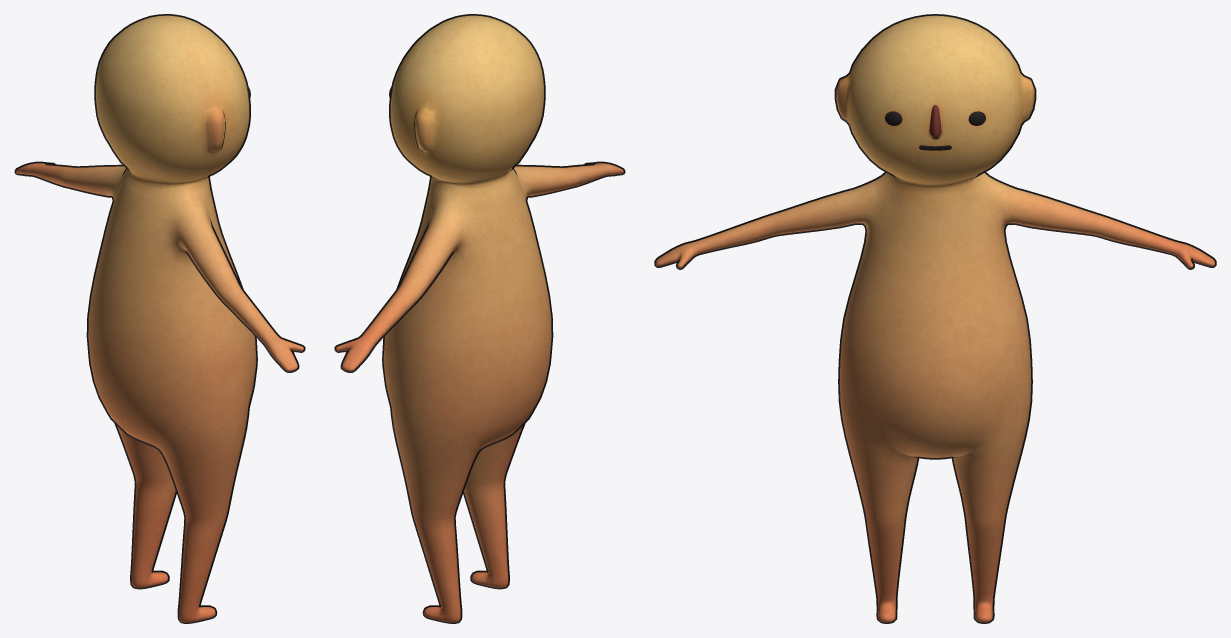
The model's file is Hider.fbx.
3 renders of one model, left to right at view 1: azimuth 30°, elevation 25°; view 2: azimuth 150°, elevation 25°; view 3: azimuth 270°, elevation 25°, orthographic. The views are drawn at different scales.
Visible parts, largest first — view 1: Hider_Body, Outline; view 2: Hider_Body, Outline; view 3: Hider_Body, Outline.
Part boxes in pixels (left/top/right/bottom): Hider_Body: left=16, top=15, right=303, bottom=622; Outline: left=14, top=14, right=305, bottom=623; Hider_Body: left=336, top=15, right=623, bottom=622; Outline: left=334, top=14, right=625, bottom=623; Hider_Body: left=656, top=15, right=1214, bottom=622; Outline: left=654, top=14, right=1216, bottom=623.
Bounding box in the file's own units: 36.15 × 135 × 116.
